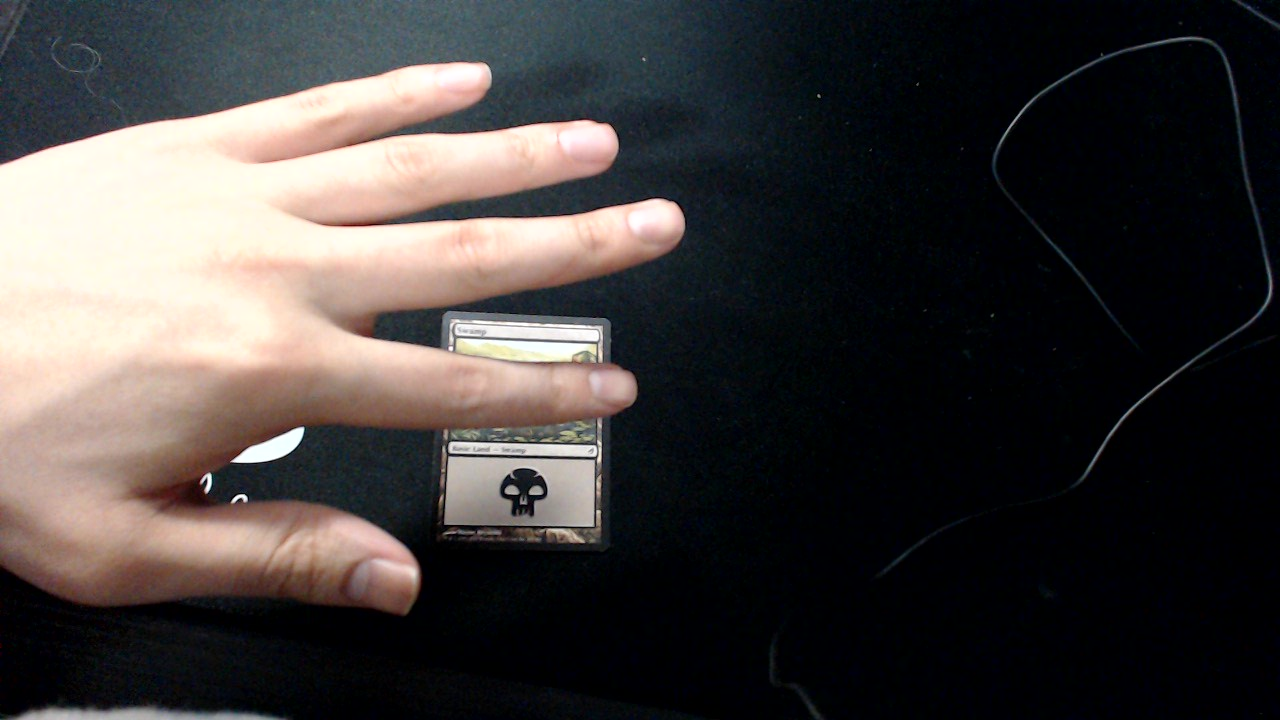MTG Card: (422, 291, 631, 565)
